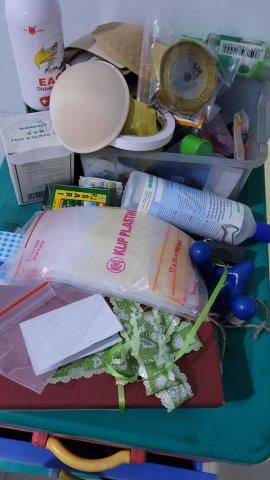plastik: (26, 209, 208, 318), (1, 275, 108, 397), (140, 16, 240, 118)
